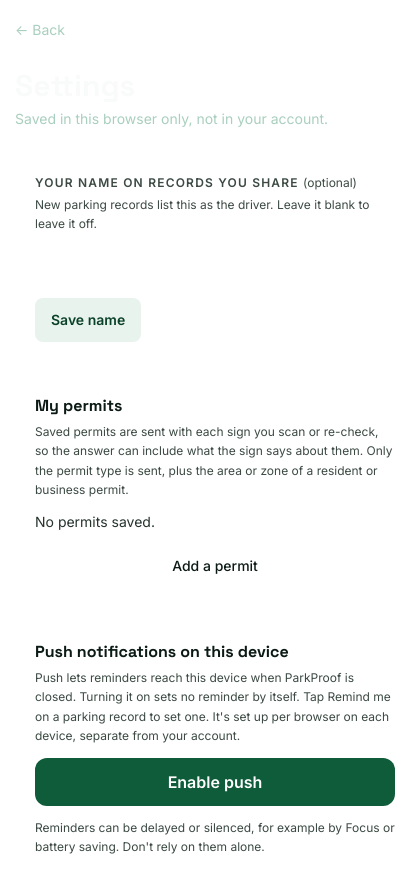
Scenario: My permits › says so when storage is full, and keeps the form
Click the button "Add a permit" at (215, 566), box [35,544,395,588]
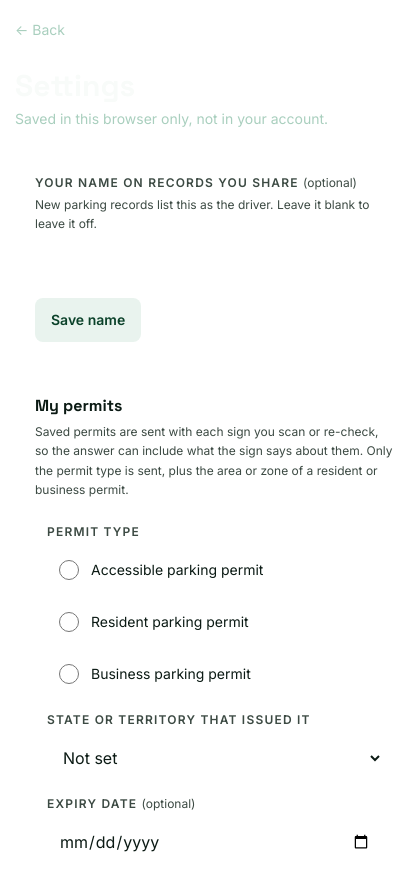
Click the radio button labelled "Resident parking permit" at (69, 622), box [59,612,79,632]
(page scrolled)
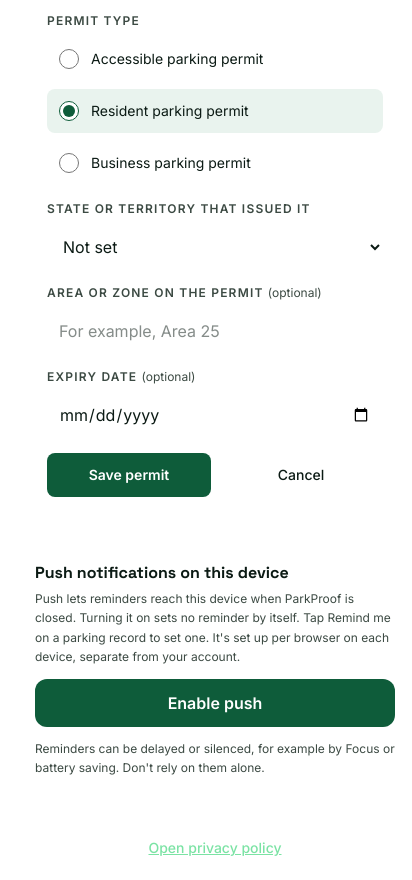
Click the button "Save permit" at (129, 475), box [47,453,211,497]
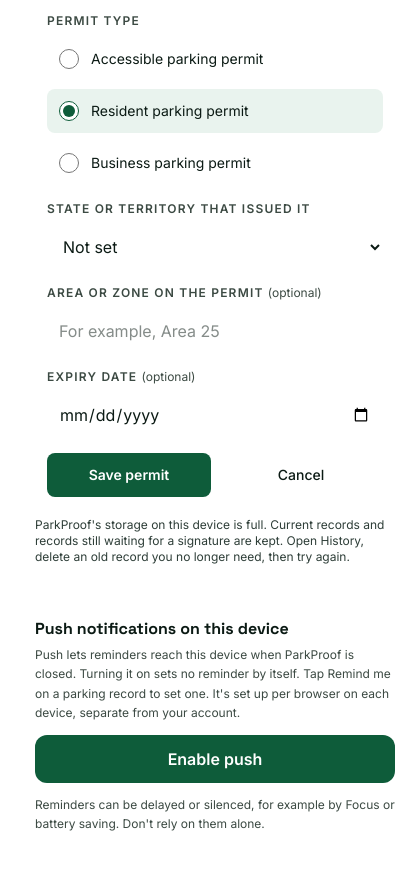
Expected: the button "Save permit" is shown, [47,453,211,497]
Expected: the message shows "ParkProof's storage on this device is full. Current records and records still waiting for a signature are kept. Open History, delete an old record you no longer", [35,517,384,564]
